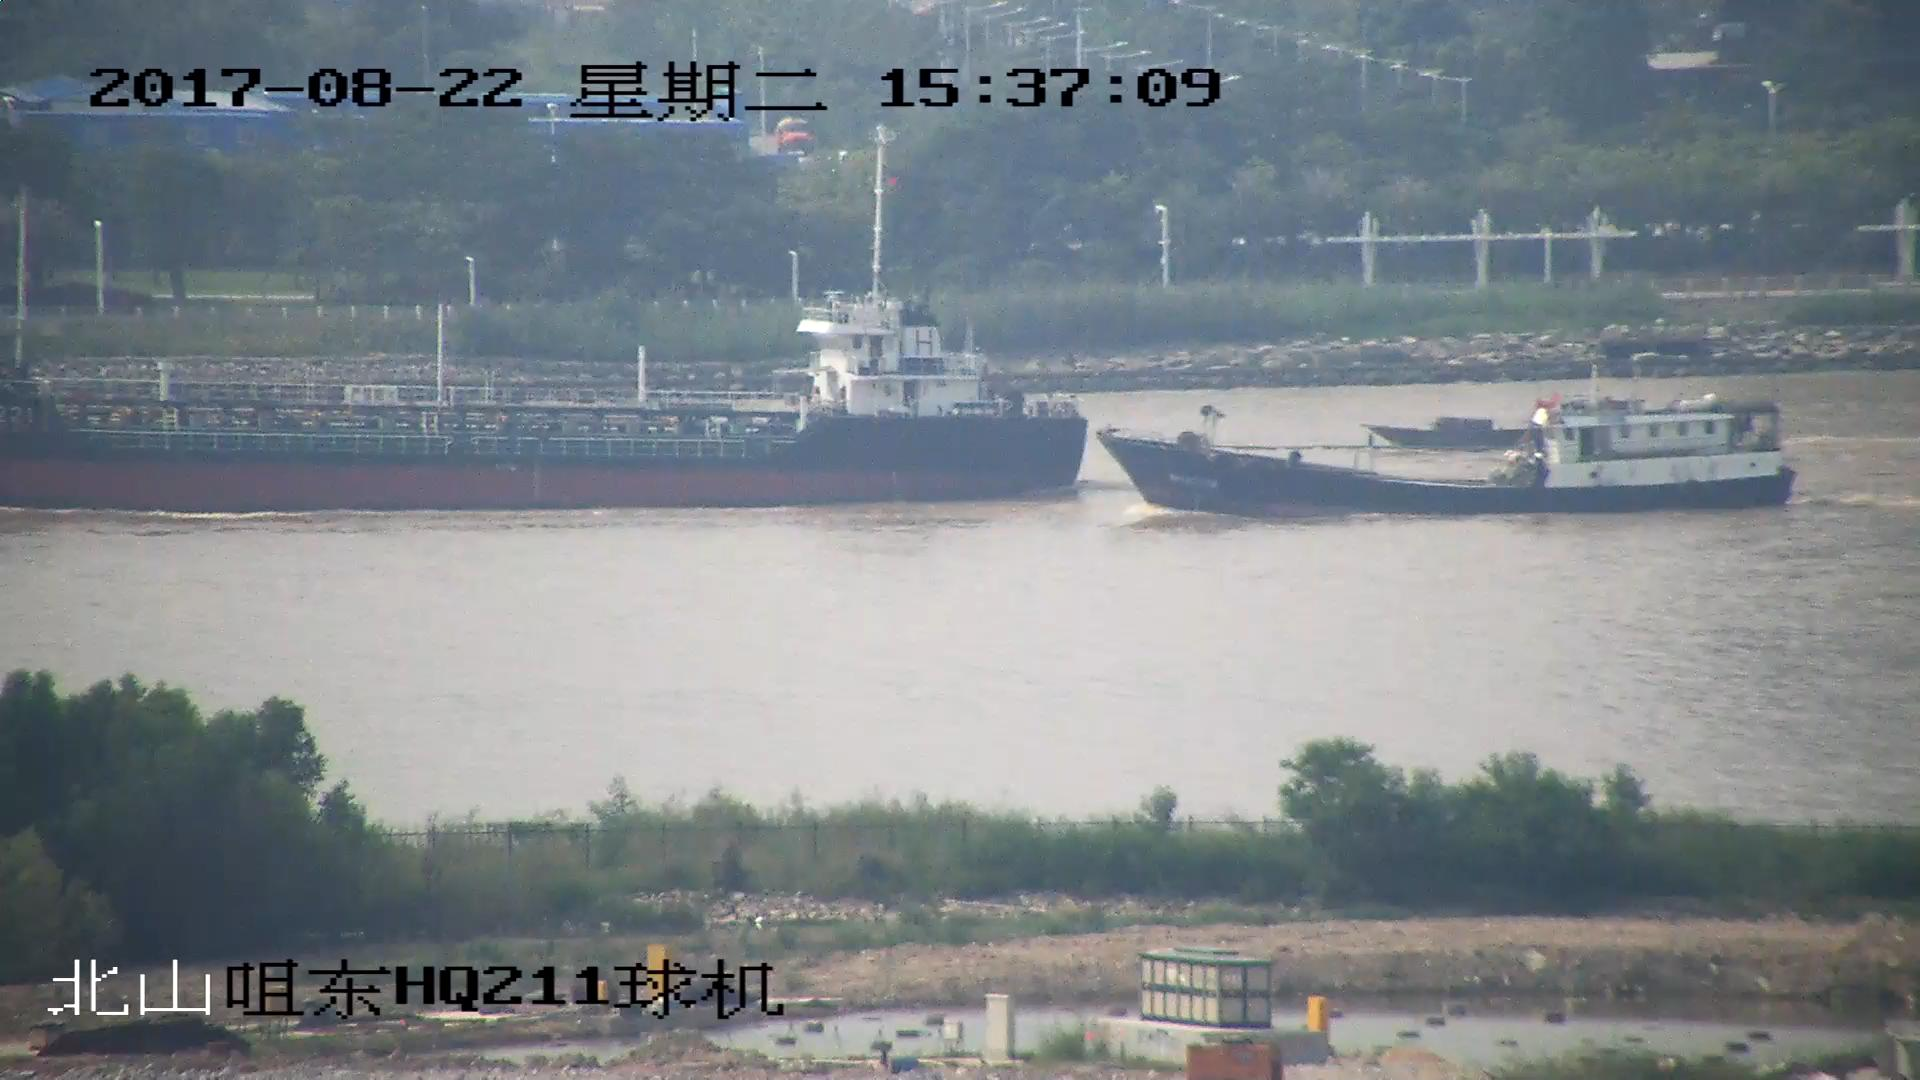fishing boat: (1106, 390, 1795, 514), (1370, 420, 1529, 450)
general cargo ship: (1, 124, 1091, 511)
